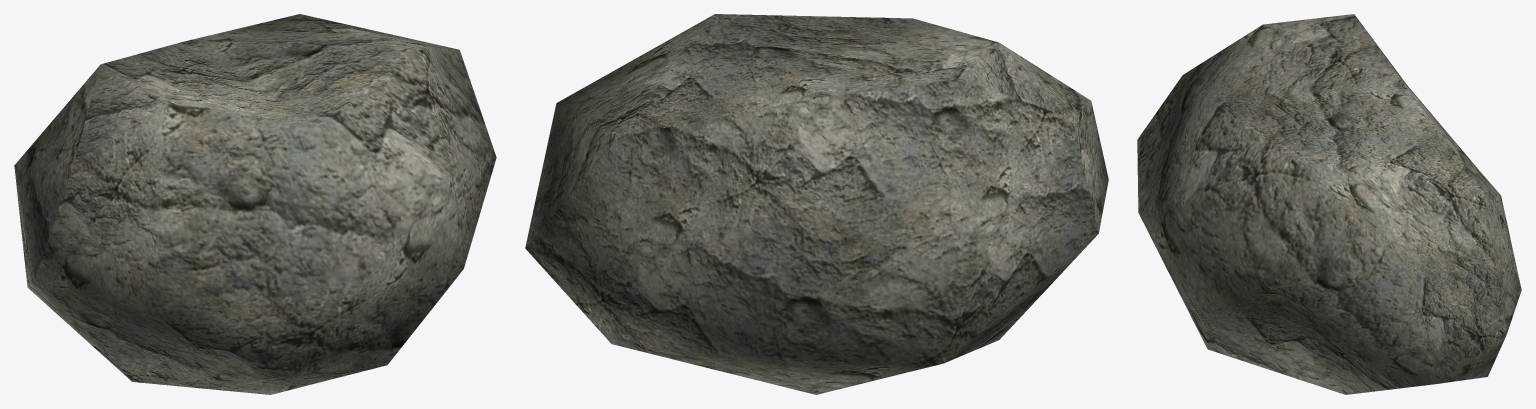
The model's file is MIN_LOB_STONE_V3_50.glb.
3 views of the same model, side by side, from view 1: azimuth 30°, elevation 25°; view 2: azimuth 150°, elevation 25°; view 3: azimuth 270°, elevation 25° (orthographic). The views are drawn at different scales.
Parts seen in each view (by area): view 1: Mesh; view 2: Mesh; view 3: Mesh.
Boxes of the visible parts, left/top/right/bottom form: Mesh: left=14, top=14, right=496, bottom=394; Mesh: left=525, top=14, right=1108, bottom=394; Mesh: left=1137, top=14, right=1521, bottom=394.
Size of the model in its own units: 42.29 by 27.29 by 33.23.
1 material, 1 textured.
